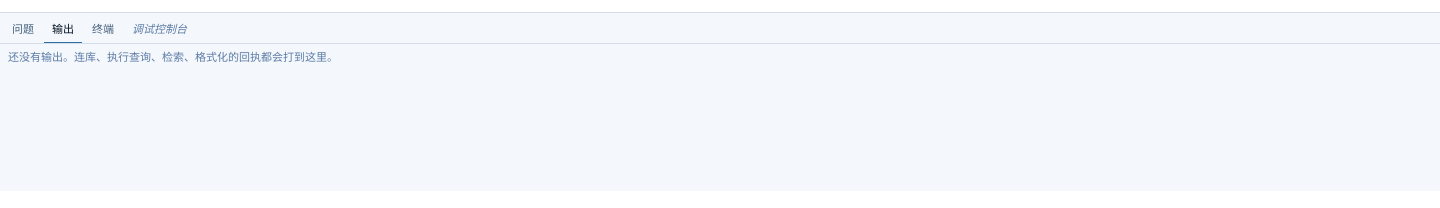
Test: BottomPanel 终端页签挂载冒烟 › 进入终端页签后有真会话区域（不再是「未开工」）
Step 1. Click the tab "终端" → (103, 28), box x1=84 y1=13 x2=122 y2=43
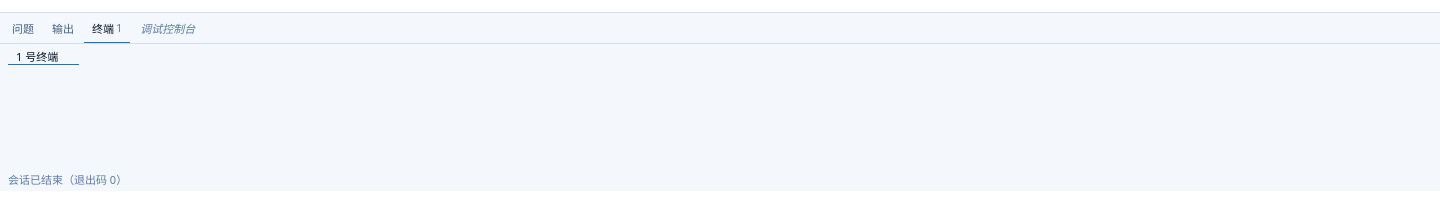
expect the element showing "1 号终端 会话已结束（退出码 0）" is shown: met, box x1=8 y1=48 x2=127 y2=187
